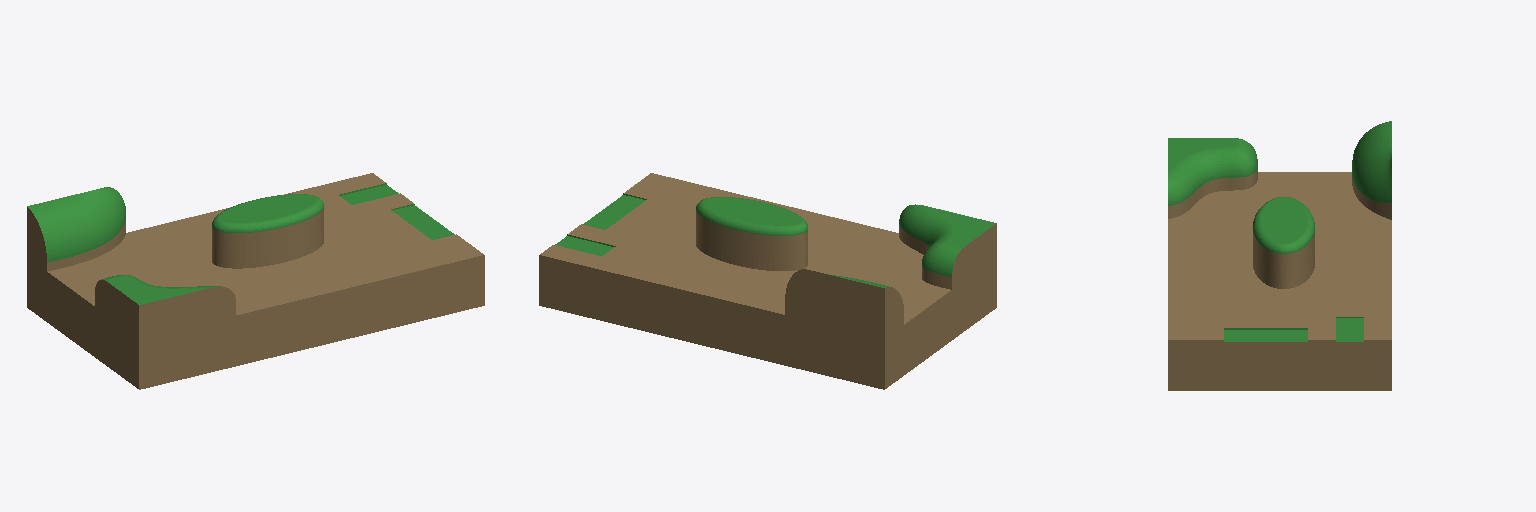
Rendered from Map1.obj.
3 renders of one model, left to right at view 1: azimuth 30°, elevation 25°; view 2: azimuth 150°, elevation 25°; view 3: azimuth 270°, elevation 25°, orthographic.
Parts seen in each view (by area): view 1: Map1&Map2_v11_Body1_0; view 2: Map1&Map2_v11_Body1_0; view 3: Map1&Map2_v11_Body1_0.
Boxes of the visible parts, x1=… form: Map1&Map2_v11_Body1_0: x1=27, y1=173, x2=484, y2=389; Map1&Map2_v11_Body1_0: x1=539, y1=173, x2=996, y2=389; Map1&Map2_v11_Body1_0: x1=1168, y1=121, x2=1391, y2=390.
Size of the model in its own units: 128 by 36 by 72.